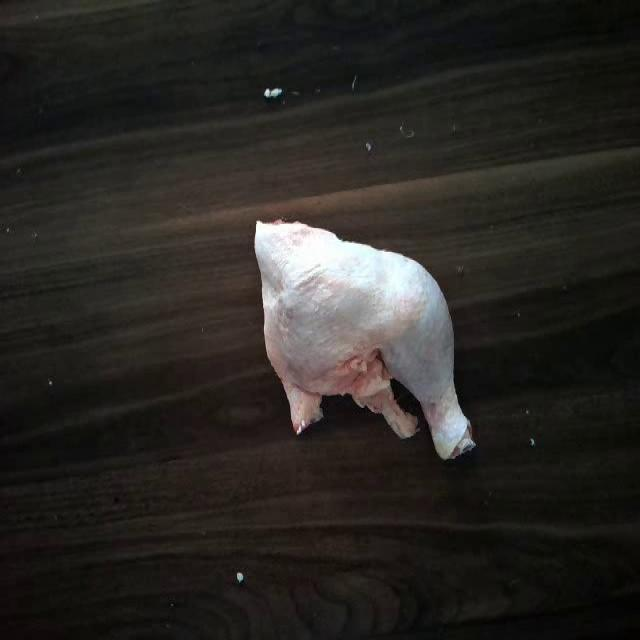quater: (248, 212, 484, 490)
